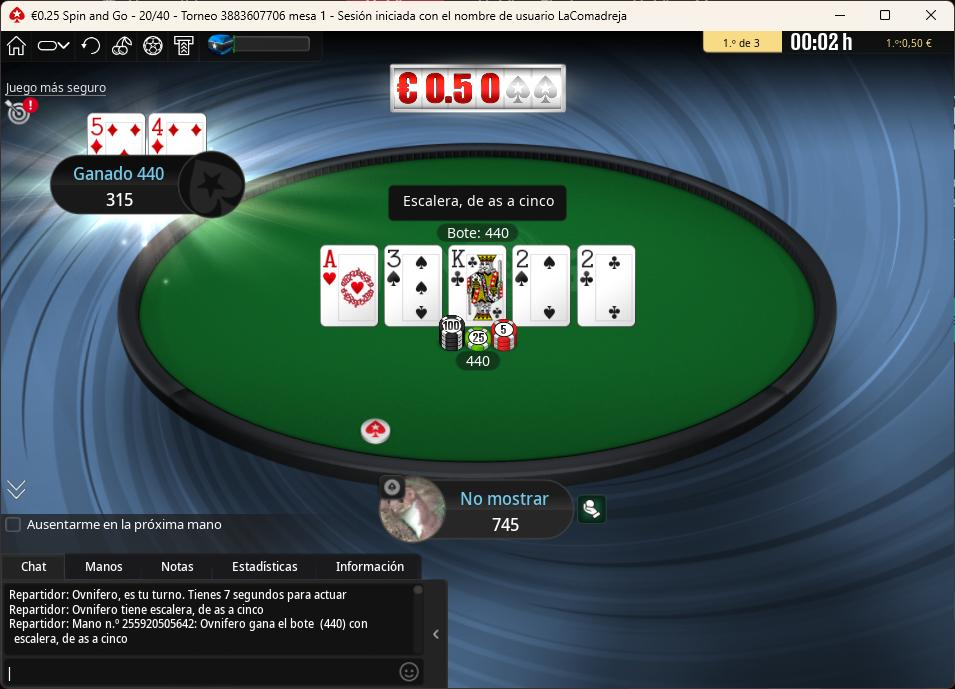Dealer: (359, 417, 392, 444)
Player: (51, 153, 246, 220)
PlayerChips: (97, 188, 144, 212)
Pot: (438, 220, 521, 245)
PrincipalPlayer: (376, 469, 579, 547)
PrincipalPlayerChips: (488, 512, 531, 535)
ShowedCards: (319, 245, 649, 332)
ShowedCards1: (319, 245, 384, 332)
ShowedCards2: (383, 246, 446, 330)
ShowedCards3: (446, 242, 511, 325)
ShowedCards4: (510, 246, 572, 329)
ShowedCards5: (575, 243, 639, 329)
SmallBigBlind: (129, 5, 180, 27)
TablePot: (434, 314, 528, 375)
